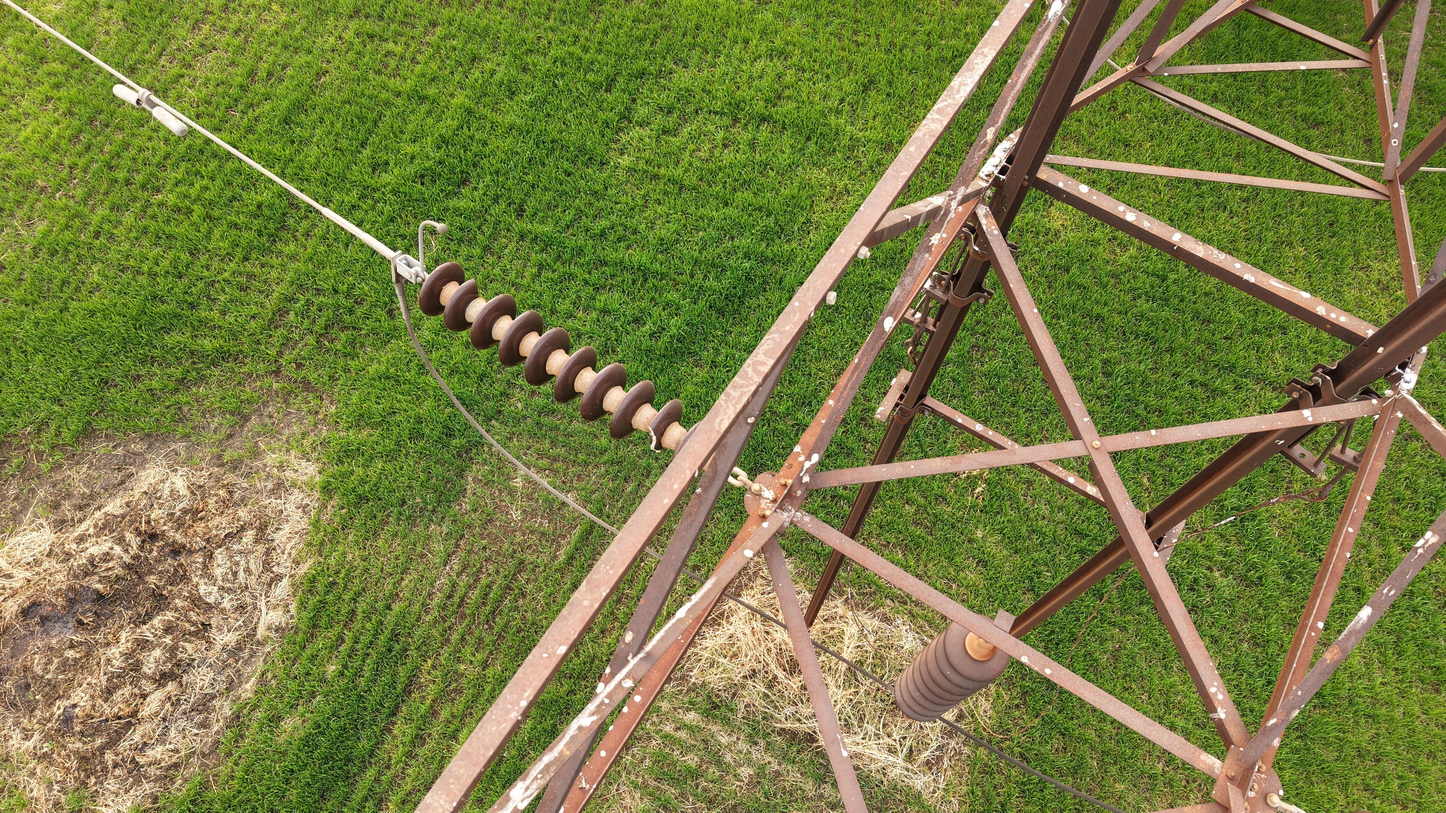broken_insulator: (646, 398, 683, 458), (445, 279, 486, 331)
